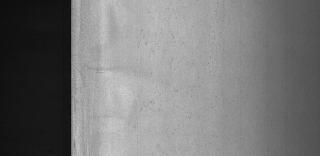silk spot: (137, 12, 215, 156)
